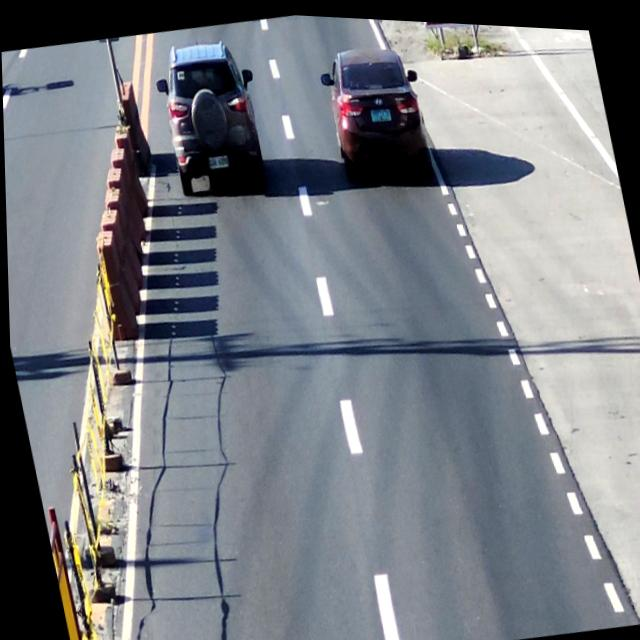Car: (154, 34, 268, 198), (316, 36, 431, 182)
License-Plate: (366, 98, 393, 121), (203, 150, 231, 170)
